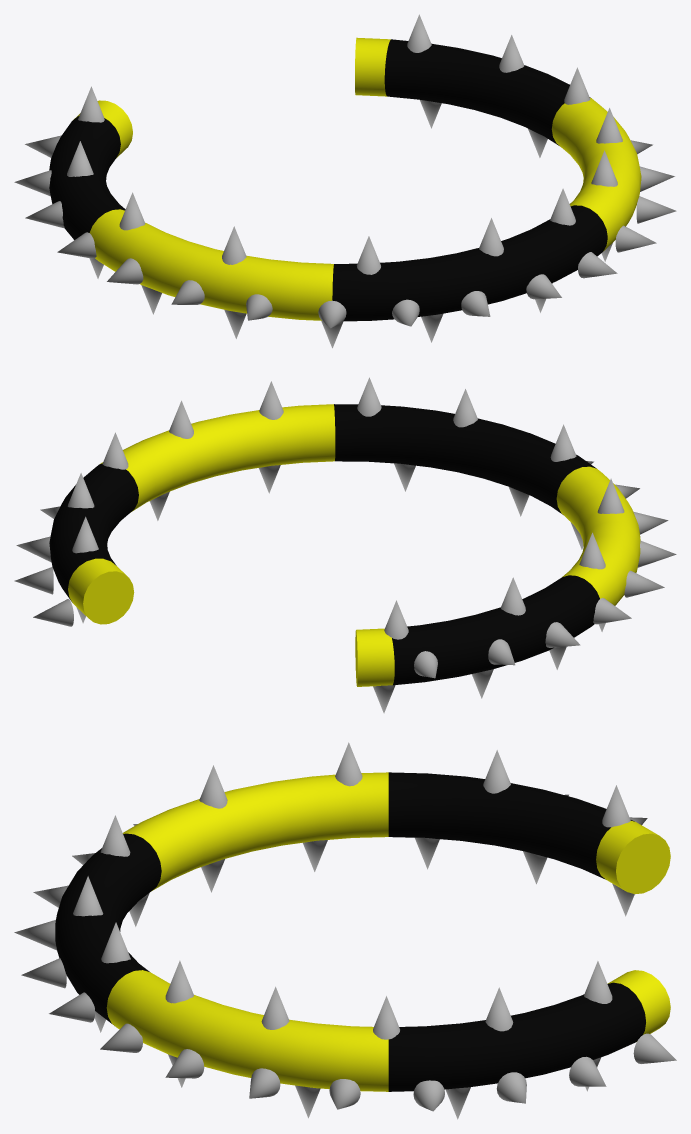
File: Level8.fbx
3 renders of one model, top to bottom at view 1: azimuth 30°, elevation 25°; view 2: azimuth 150°, elevation 25°; view 3: azimuth 270°, elevation 25°, orthographic. The views are drawn at different scales.
Parts seen in each view (by area): view 1: pCone88; view 2: pCone88; view 3: pCone88.
Part boxes in pixels (x1,y1,x2,y2): pCone88: (14,14,676,348); pCone88: (14,377,676,713); pCone88: (14,742,676,1119).
Size of the model in its own units: 30.95 by 5.83 by 27.49.
